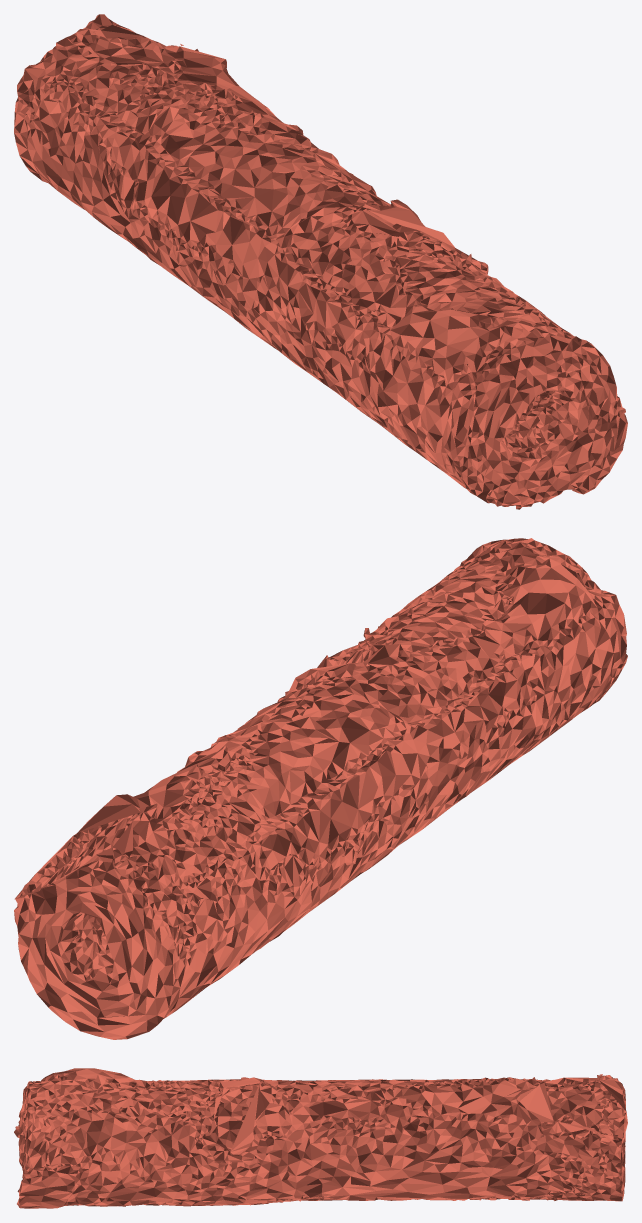
The model's file is hum_14_yogamat_props.glb.
3 renders of one model, top to bottom at view 1: azimuth 30°, elevation 25°; view 2: azimuth 150°, elevation 25°; view 3: azimuth 270°, elevation 25°, orthographic. The views are drawn at different scales.
Parts seen in each view (by area): view 1: o00; view 2: o00; view 3: o00.
Part boxes in pixels (left/top/right/bottom): o00: left=14, top=14, right=627, bottom=509; o00: left=14, top=538, right=627, bottom=1039; o00: left=14, top=1068, right=627, bottom=1208.
Size of the model in its own units: 0.2281 by 0.2188 by 1.
